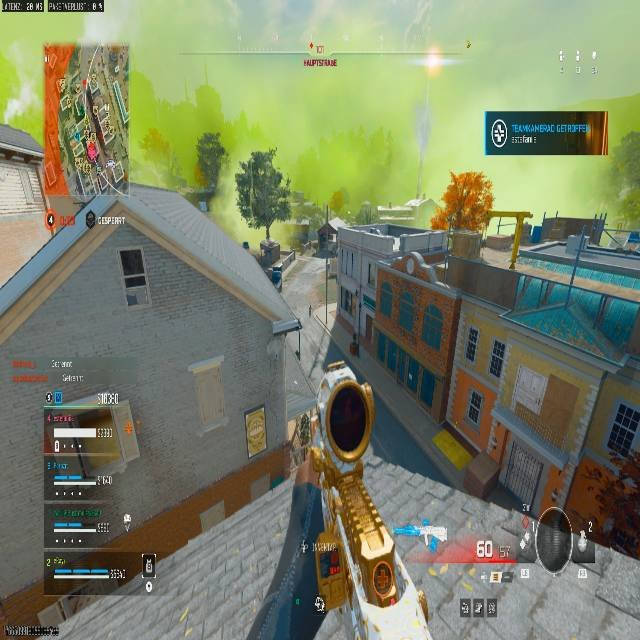player: (195, 132, 225, 192), (263, 245, 284, 292), (270, 260, 283, 291)
